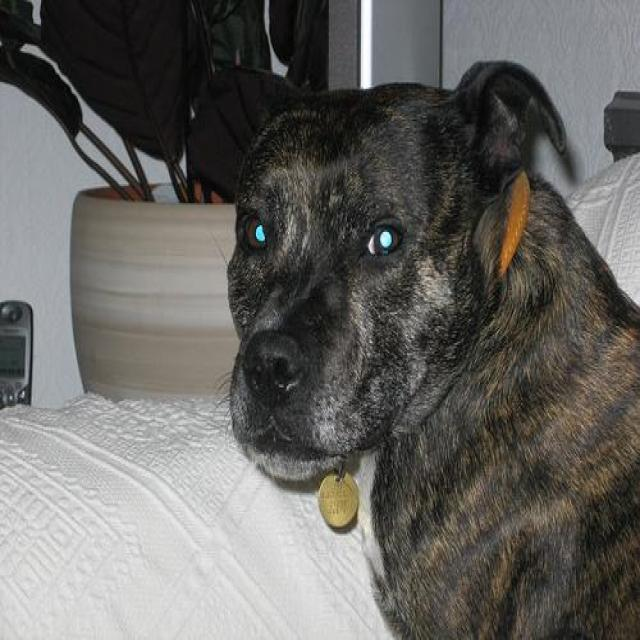staffordshire_bullterrier: (187, 56, 637, 637)
